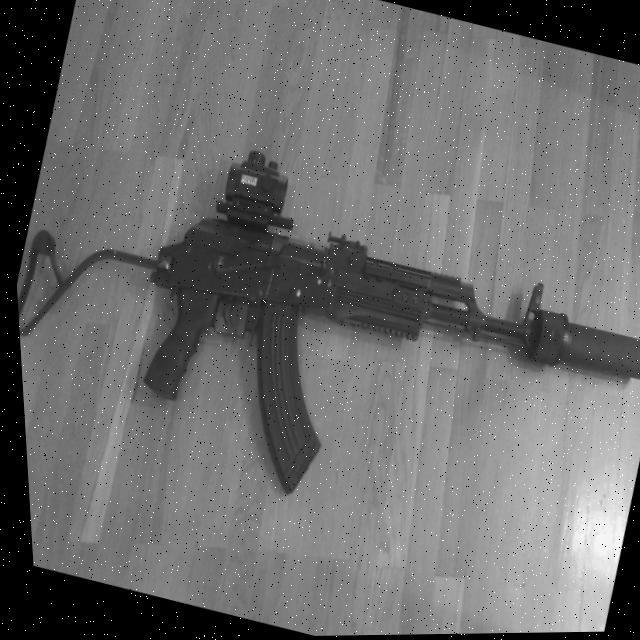firearm: (5, 94, 640, 584)
